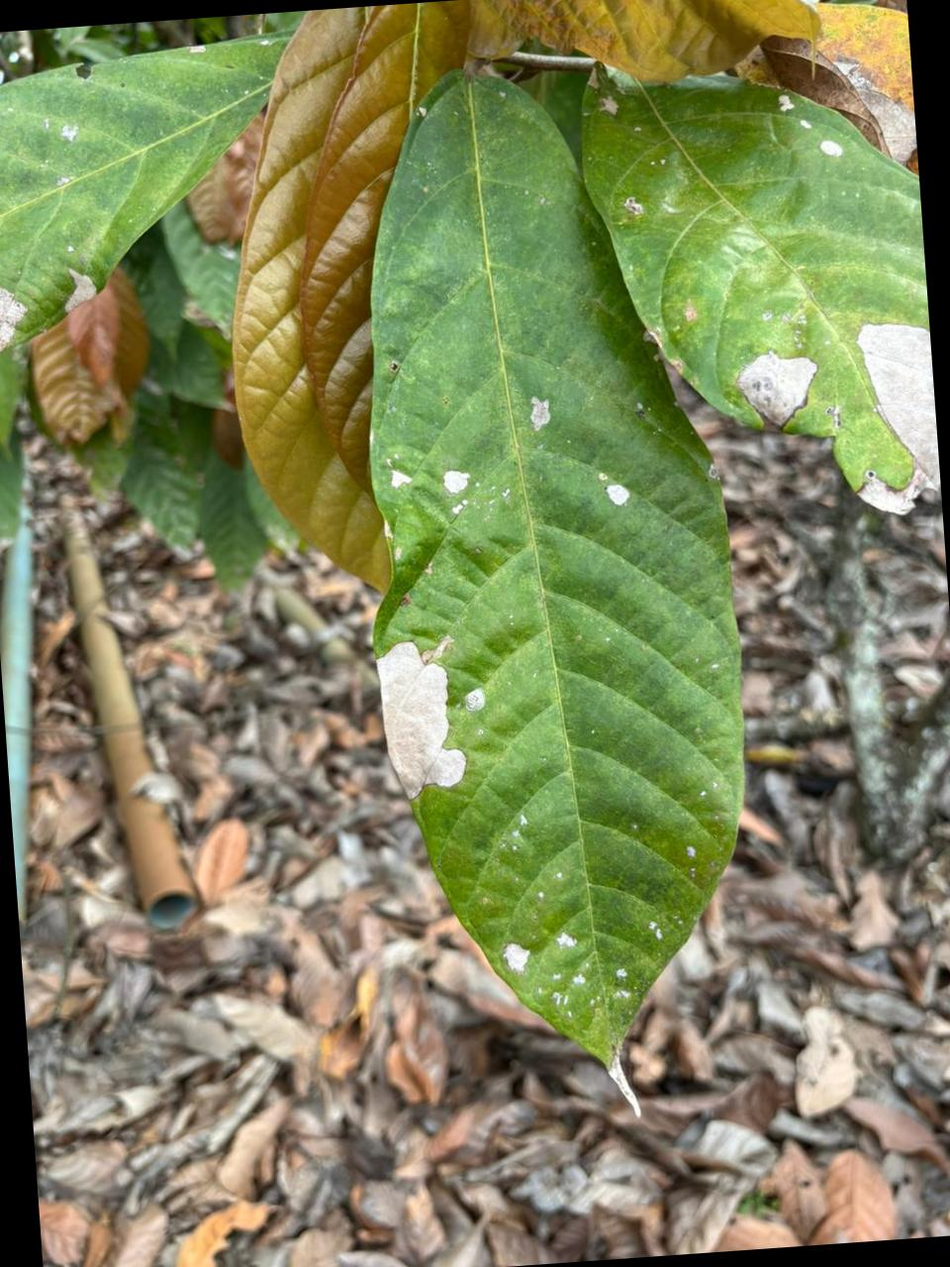Potasio: (371, 71, 743, 1115), (582, 70, 940, 509)
